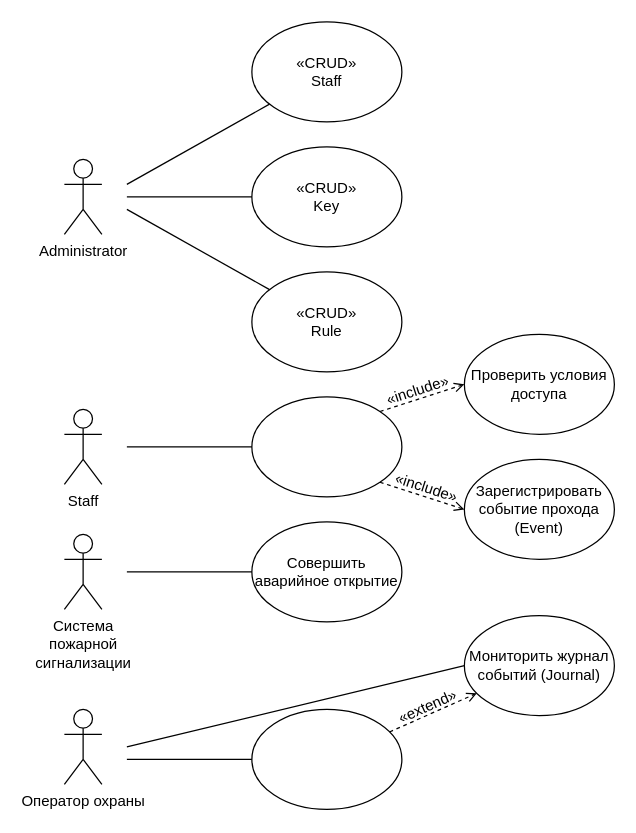
Some shapes in this 636 by 833 pixel diagram are drawn without their labels. Each missing label, with the box of its shape:
Открыть точку доступа (Point) вручную: (251, 708, 402, 809)
Получить доступ: (251, 396, 402, 497)
